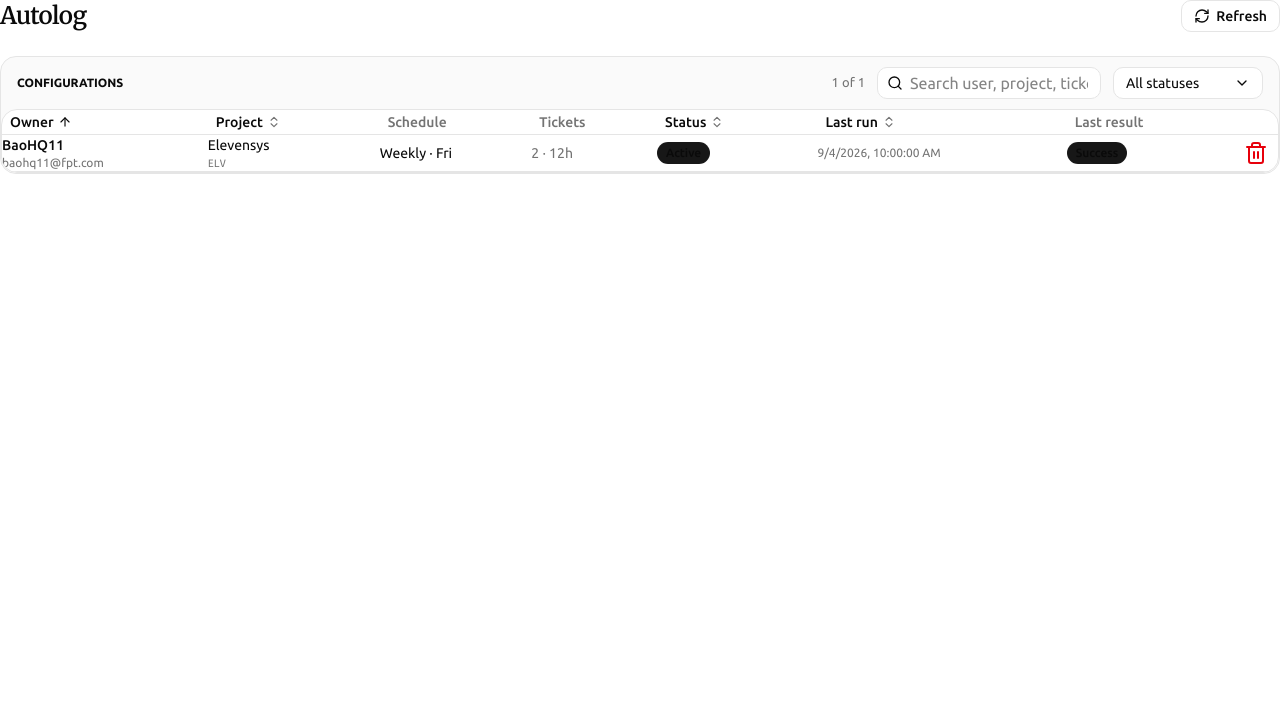
Test case: AutologTable › opens the detail sheet with the owner and schedule when a row is clicked
The width and height of the screenshot is (1280, 720).
Click the text "Elevensys".
click(239, 145)  # box [208,137,270,153]
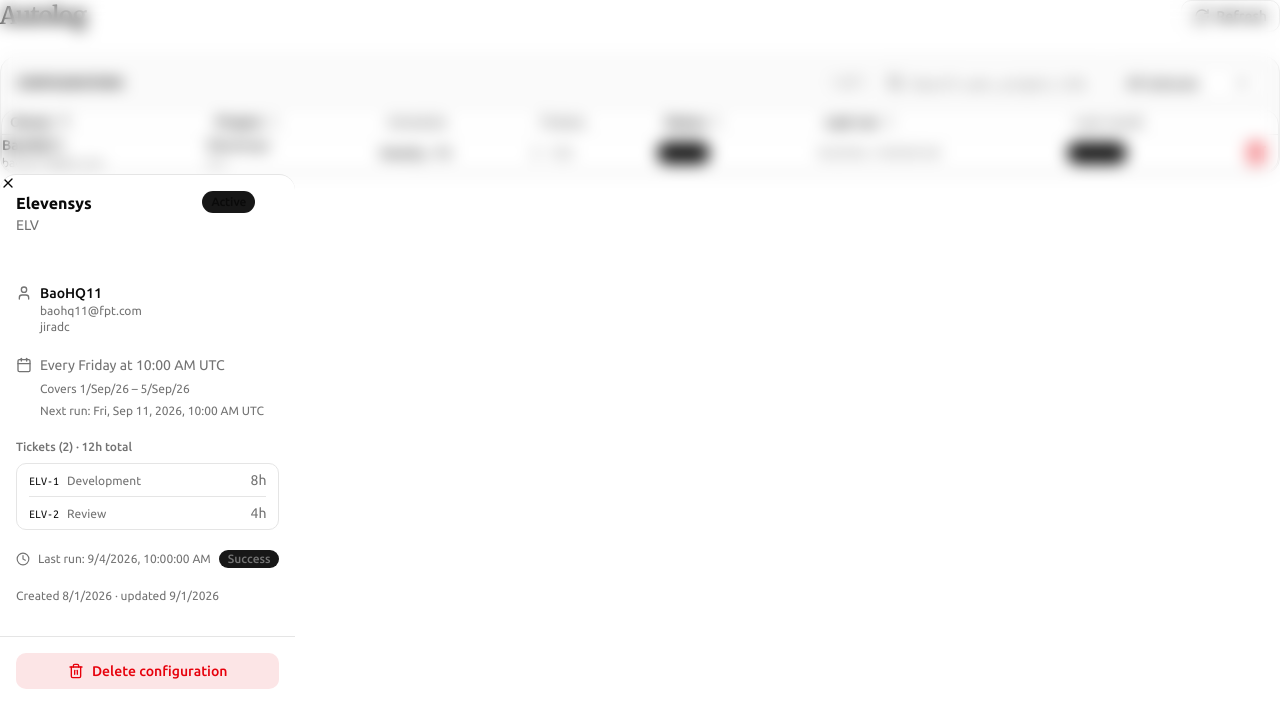
Expected: the text "baohq11@fpt.com" is shown, [40,303,142,319]
Expected: the text "Every Friday at 10:00 AM UTC" is shown, [40,355,225,375]
Expected: the text "ELV-1" is shown, [29,475,59,487]
